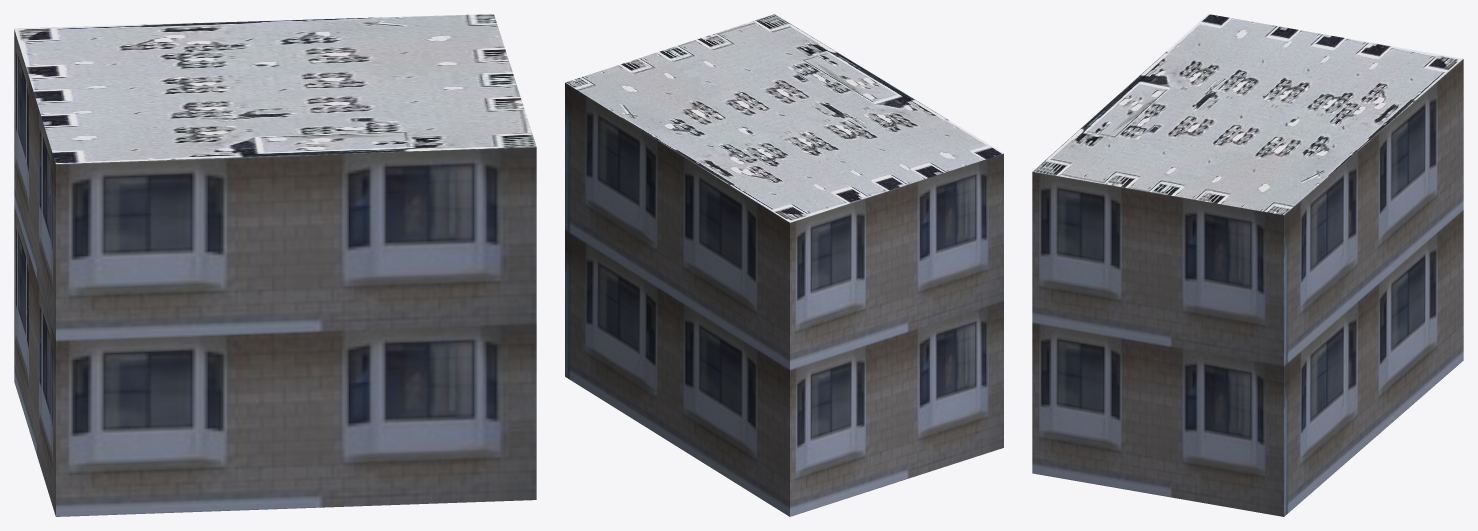
The model's file is ResTex__2474.fbx.
3 renders of one model, left to right at view 1: azimuth 30°, elevation 25°; view 2: azimuth 150°, elevation 25°; view 3: azimuth 270°, elevation 25°, orthographic. The views are drawn at different scales.
Parts seen in each view (by area): view 1: CityEngineMaterial_3_m, CityEngineMaterial_8_m; view 2: CityEngineMaterial_3_m, CityEngineMaterial_8_m; view 3: CityEngineMaterial_3_m, CityEngineMaterial_8_m.
Boxes of the visible parts, box(x1,y1,x2,y2) form: CityEngineMaterial_3_m: box(14, 30, 536, 516); CityEngineMaterial_8_m: box(14, 14, 536, 163); CityEngineMaterial_3_m: box(565, 83, 1003, 516); CityEngineMaterial_8_m: box(565, 14, 1003, 222); CityEngineMaterial_3_m: box(1032, 59, 1463, 516); CityEngineMaterial_8_m: box(1033, 14, 1462, 215).
Bounding box in the file's own units: 8.58 × 6 × 7.77.
Materials: 2 (2 with a texture image).
